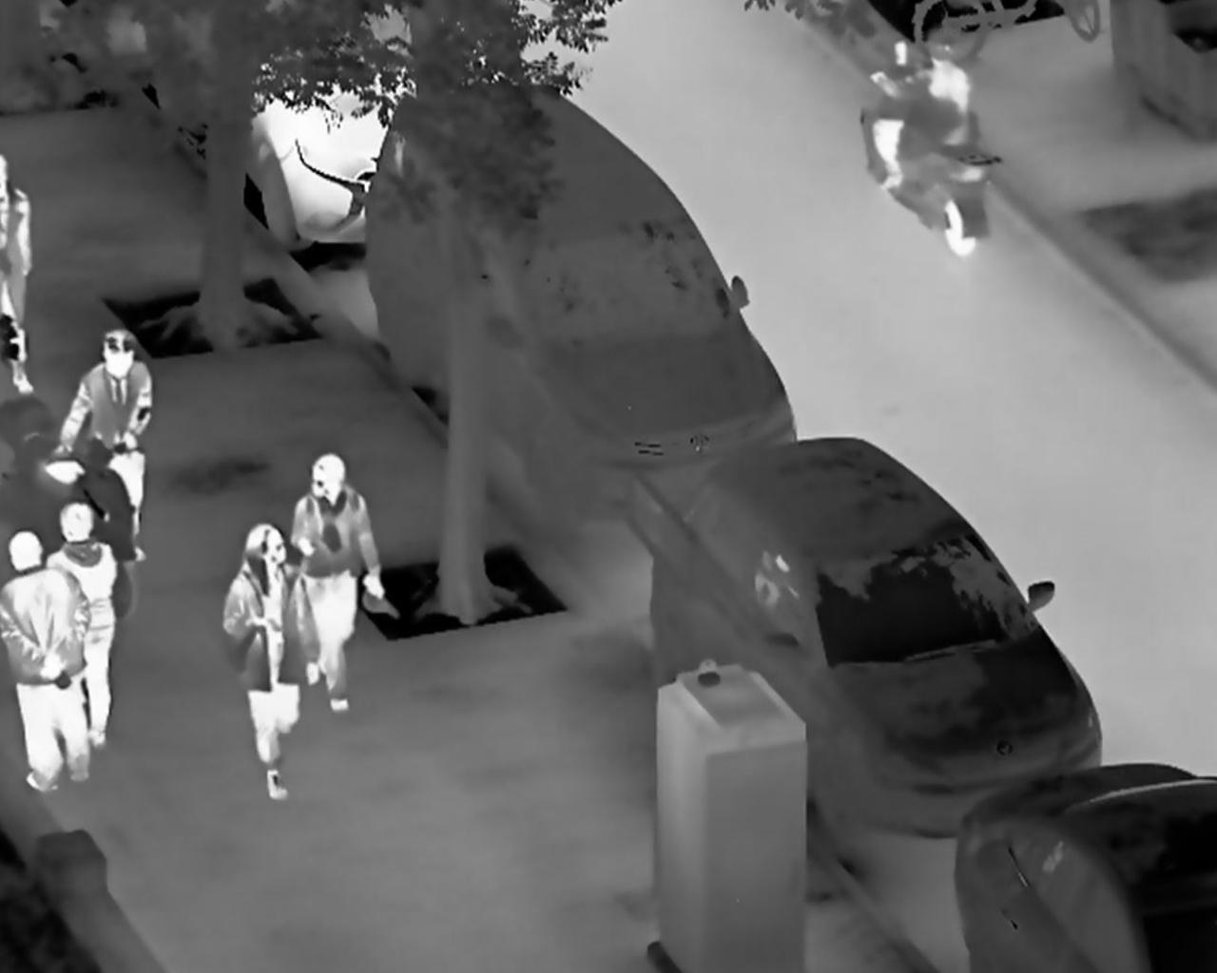person: (220, 521, 324, 800), (290, 453, 382, 716), (57, 325, 151, 565), (855, 36, 977, 195), (46, 501, 113, 753)
